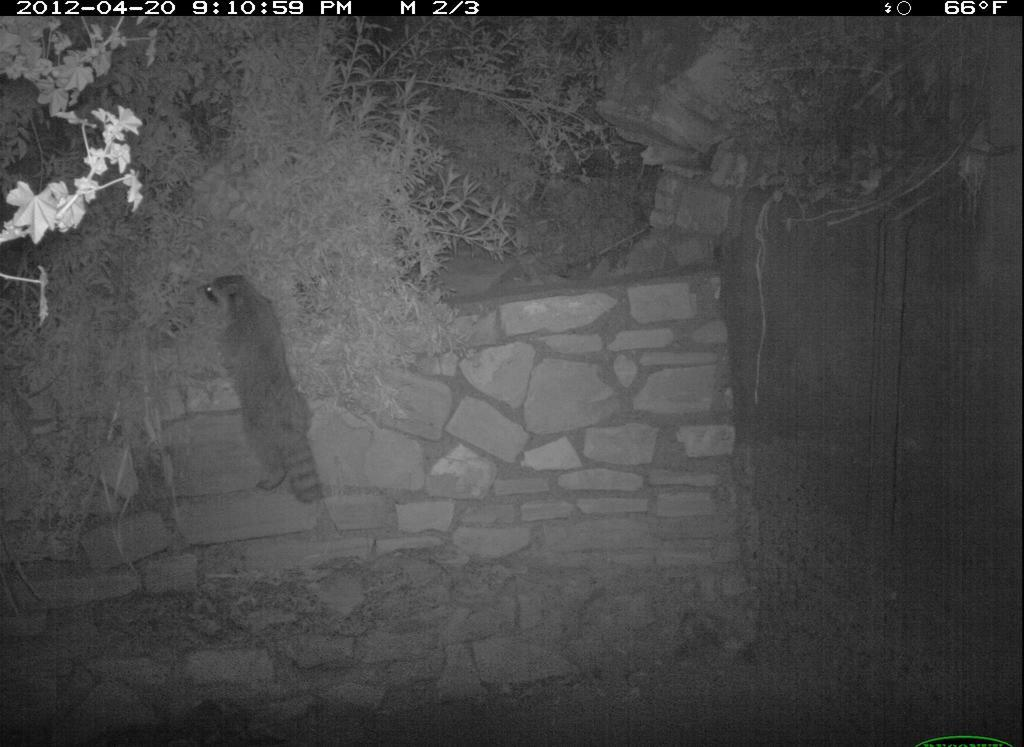raccoon: (185, 268, 345, 509)
